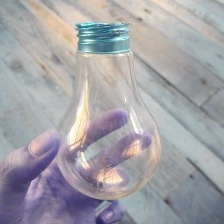light_bulb: (48, 14, 166, 208)
